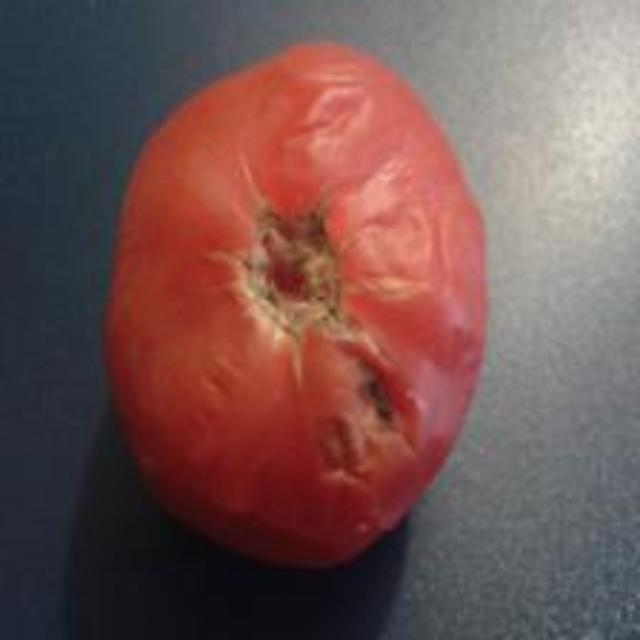defect: (103, 36, 491, 573)
